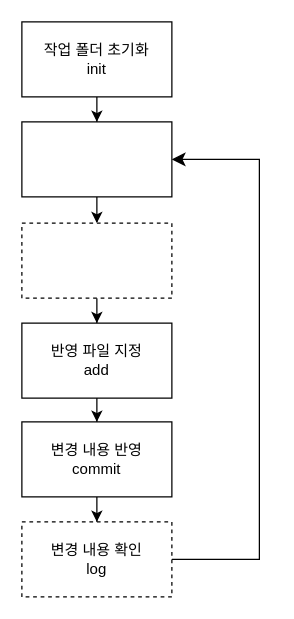
The diagram is 294 pixels wide and 619 high, and some of its shapes have lost their labels. Here are the shapes that lost their labels. From the top down, the box of each, then its label:
(21, 121, 172, 197): (작업)
(21, 222, 172, 298): 변경 내역 확인 status
